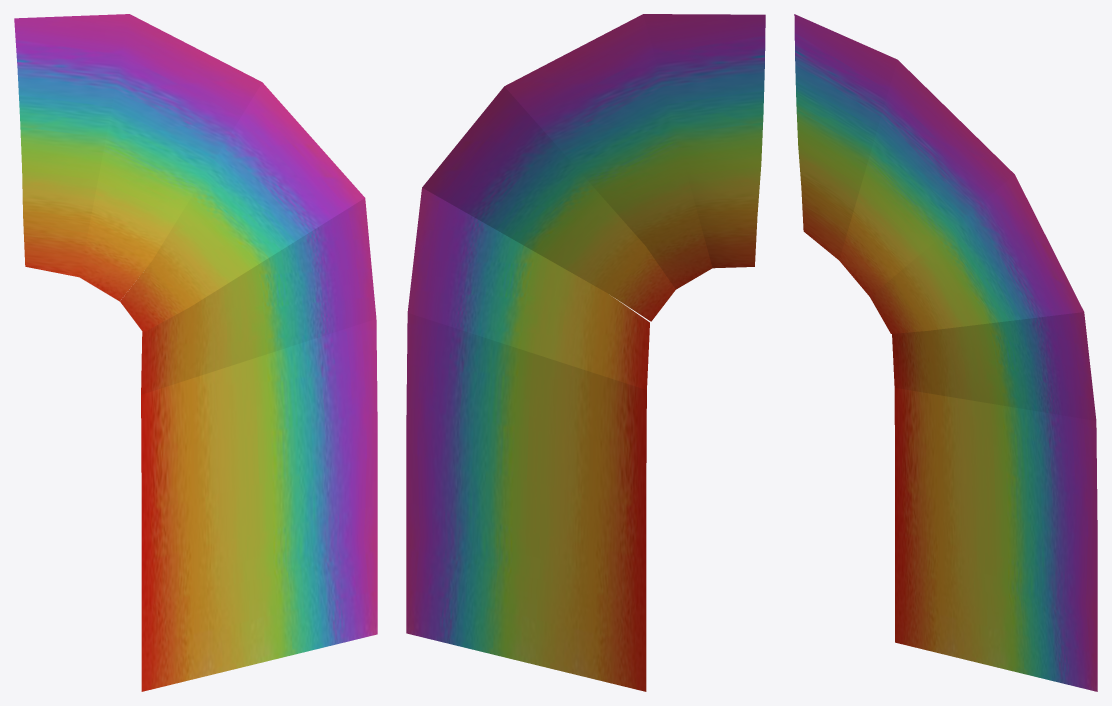
Rendered from Rainbow.fbx.
3 views of the same model, side by side, from view 1: azimuth 30°, elevation 25°; view 2: azimuth 150°, elevation 25°; view 3: azimuth 330°, elevation 25° (orthographic). The views are drawn at different scales.
Visible parts, largest first — view 1: RainBow_1, RainBow_4, RainBow_2, RainBow_5, RainBow_6, RainBow_0, RainBow_3; view 2: RainBow_4, RainBow_1, RainBow_5, RainBow_6, RainBow_3, RainBow_2, RainBow_0; view 3: RainBow_1, RainBow_4, RainBow_2, RainBow_5, RainBow_6, RainBow_3, RainBow_0.
Boxes of the visible parts, x1,y1,x2,y2 form: RainBow_1: [79, 14, 262, 301]; RainBow_4: [141, 319, 377, 493]; RainBow_2: [120, 82, 364, 332]; RainBow_5: [141, 436, 377, 592]; RainBow_6: [141, 535, 377, 691]; RainBow_0: [14, 14, 129, 277]; RainBow_3: [141, 198, 376, 394]; RainBow_4: [406, 313, 646, 490]; RainBow_1: [504, 14, 712, 289]; RainBow_5: [406, 432, 646, 591]; RainBow_6: [406, 533, 646, 691]; RainBow_3: [407, 188, 649, 389]; RainBow_2: [422, 86, 675, 321]; RainBow_0: [643, 14, 765, 268]; RainBow_1: [839, 60, 1014, 296]; RainBow_4: [894, 388, 1097, 522]; RainBow_2: [870, 174, 1083, 333]; RainBow_5: [895, 473, 1097, 607]; RainBow_6: [895, 558, 1097, 691]; RainBow_3: [892, 312, 1096, 420]; RainBow_0: [794, 14, 897, 260].
Bounding box in the file's own units: 1.28 × 2.38 × 0.0899.
1 material, 1 textured.
